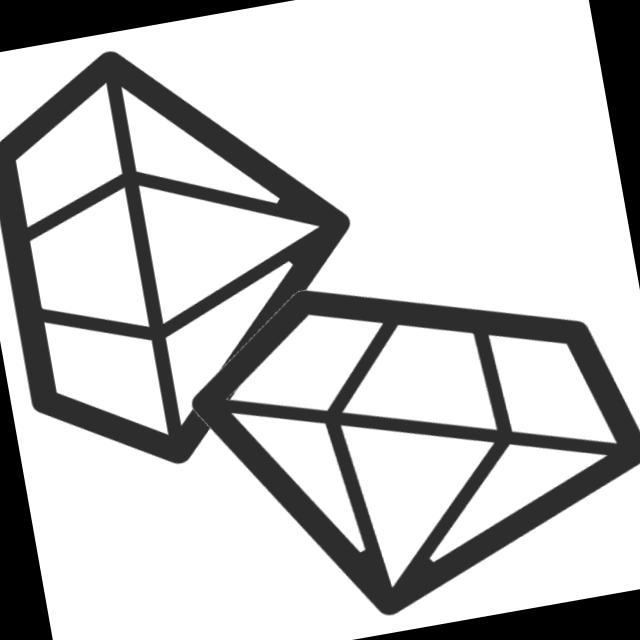diamond: (151, 201, 640, 640), (1, 5, 397, 498)
